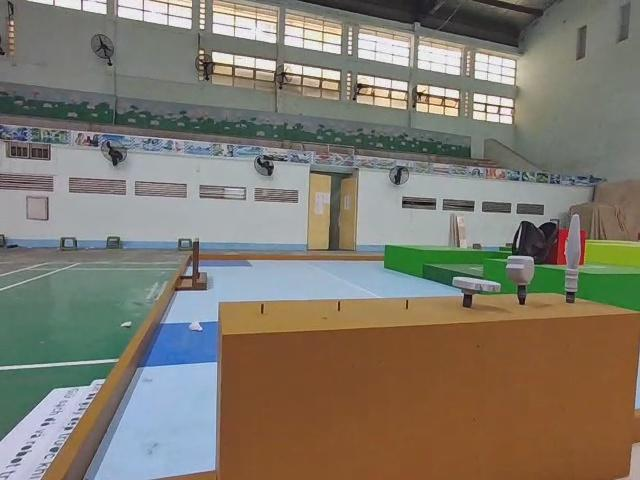Fist: (505, 253, 538, 305)
Hand: (453, 273, 502, 306)
Sph: (564, 212, 582, 304)
